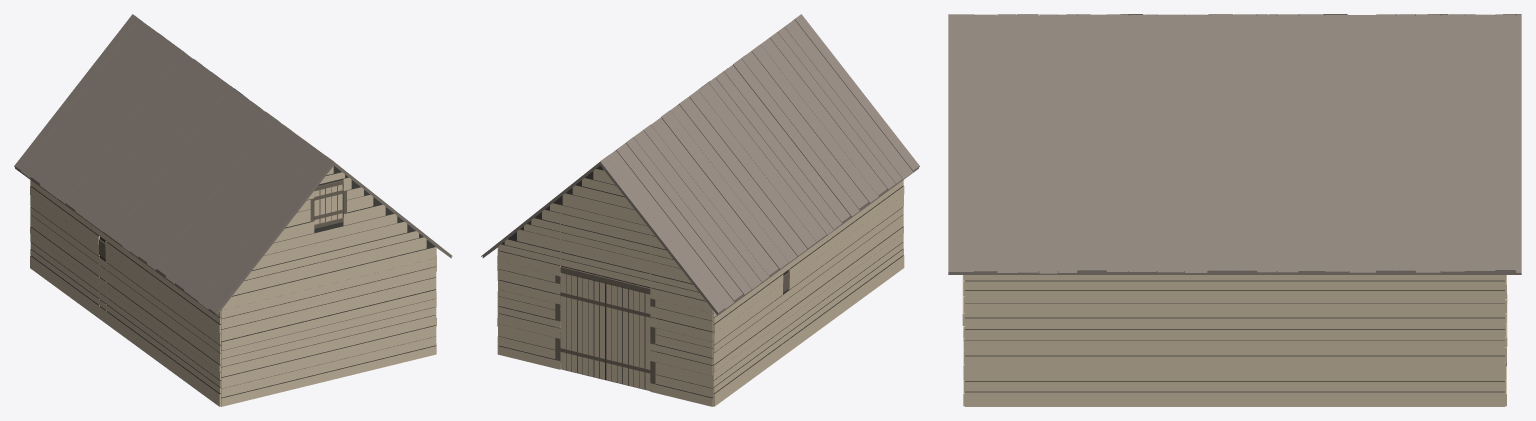
Rendered from recon_1835_blk_randolph_dearborn_a2_17__inferred_1835.glb.
The picture shows the model from 3 angles, left to right: view 1: azimuth 30°, elevation 25°; view 2: azimuth 150°, elevation 25°; view 3: azimuth 270°, elevation 25°; orthographic projection. The views are drawn at different scales.
Parts seen in each view (by area): view 1: recon_1835_blk_randolph_dearborn_a2_17__inferred_1835; view 2: recon_1835_blk_randolph_dearborn_a2_17__inferred_1835; view 3: recon_1835_blk_randolph_dearborn_a2_17__inferred_1835.
Part boxes in pixels (<box>): recon_1835_blk_randolph_dearborn_a2_17__inferred_1835: <box>14,14,452,406</box>; recon_1835_blk_randolph_dearborn_a2_17__inferred_1835: <box>481,14,919,406</box>; recon_1835_blk_randolph_dearborn_a2_17__inferred_1835: <box>948,14,1521,406</box>.
Size of the model in its own units: 7.66 by 6.87 by 11.23.
